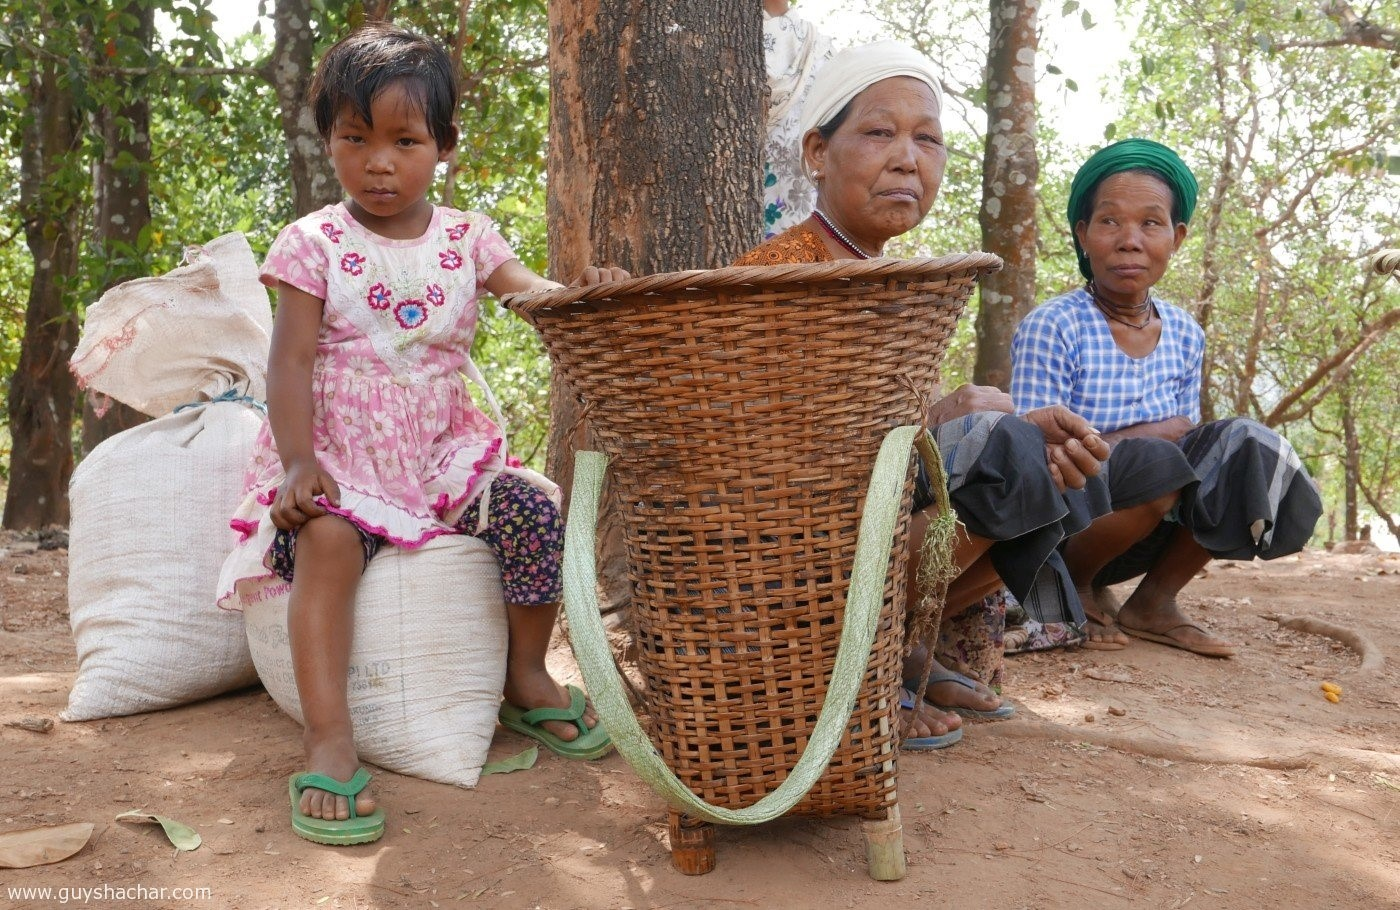face_no_mask: (314, 33, 466, 210), (802, 69, 943, 233), (1069, 150, 1182, 294)
